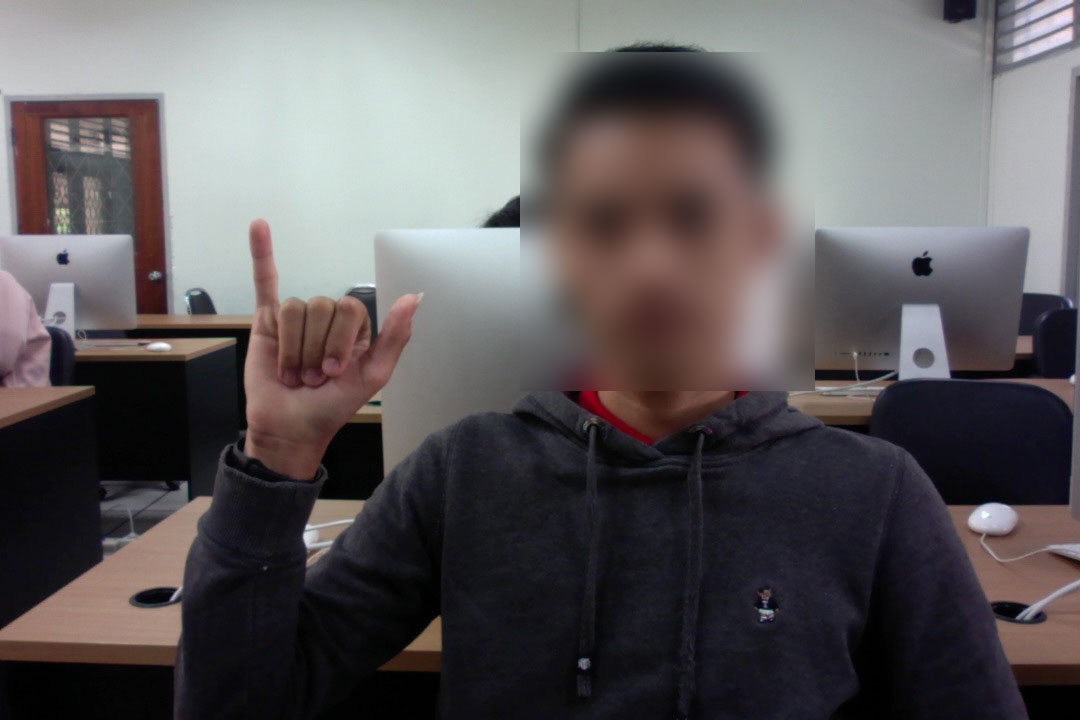yor: (238, 213, 426, 454)
